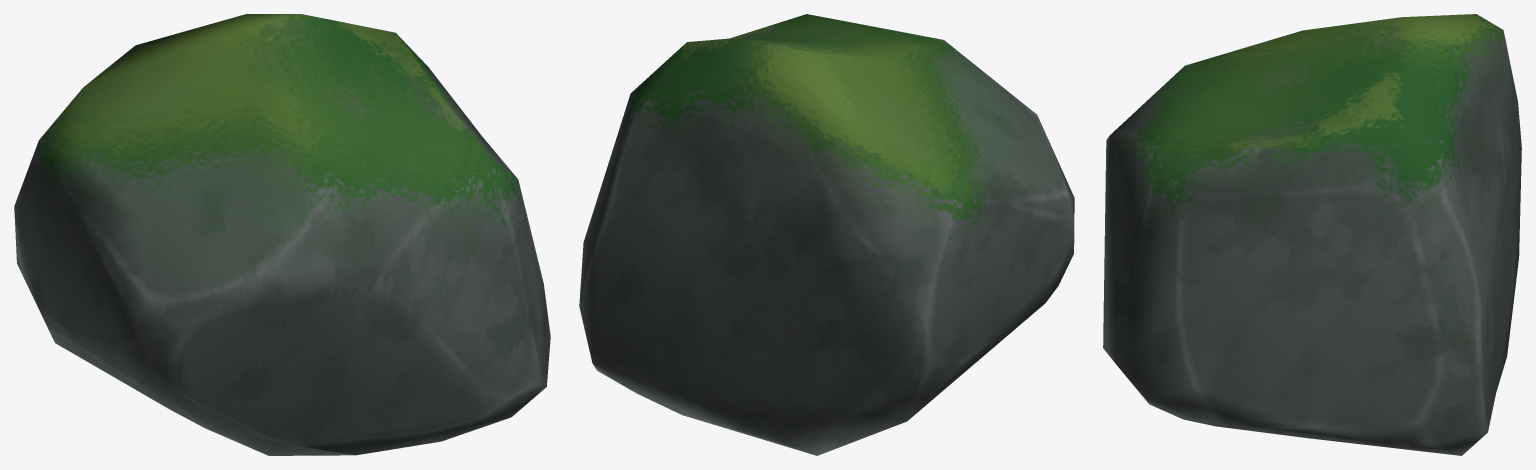
File: Stone6_v1_moss.fbx
The picture shows the model from 3 angles, left to right: view 1: azimuth 30°, elevation 25°; view 2: azimuth 150°, elevation 25°; view 3: azimuth 270°, elevation 25°; orthographic projection. The views are drawn at different scales.
Visible parts, largest first — view 1: Stone6_v1_moss; view 2: Stone6_v1_moss; view 3: Stone6_v1_moss.
Boxes of the visible parts, x1,y1,x2,y2 form: Stone6_v1_moss: (14, 14, 550, 455); Stone6_v1_moss: (579, 14, 1074, 455); Stone6_v1_moss: (1103, 14, 1521, 455).
Size of the model in its own units: 200 by 171 by 178.
Materials: 1 (1 with a texture image).
